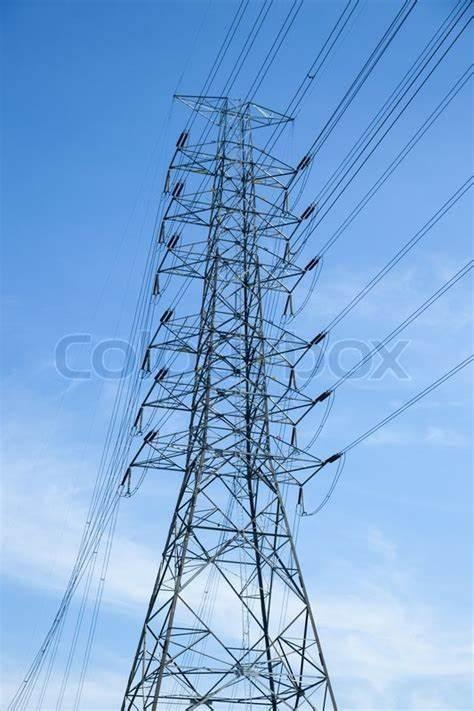power_tower: (123, 92, 346, 709)
